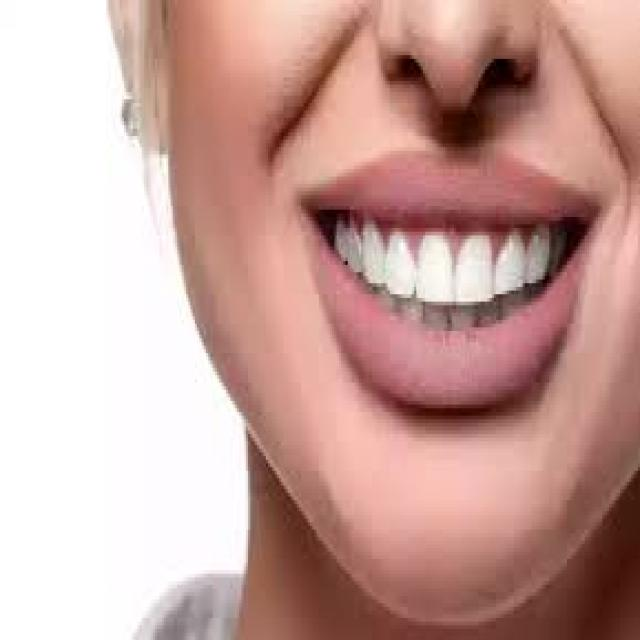tooth: (458, 239, 489, 298), (421, 236, 447, 306), (525, 217, 551, 283), (387, 235, 412, 298), (498, 232, 523, 294), (364, 228, 386, 283), (396, 294, 423, 324), (447, 306, 474, 328), (421, 309, 447, 331), (332, 217, 346, 257), (348, 224, 361, 265), (503, 284, 527, 306), (554, 217, 567, 257), (478, 294, 492, 313)
